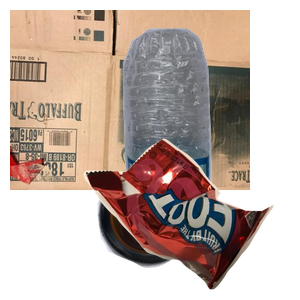cardboard: (10, 10, 250, 190)
glass: (95, 164, 286, 300)
plastic: (111, 26, 300, 206)
trash: (81, 136, 300, 300)
